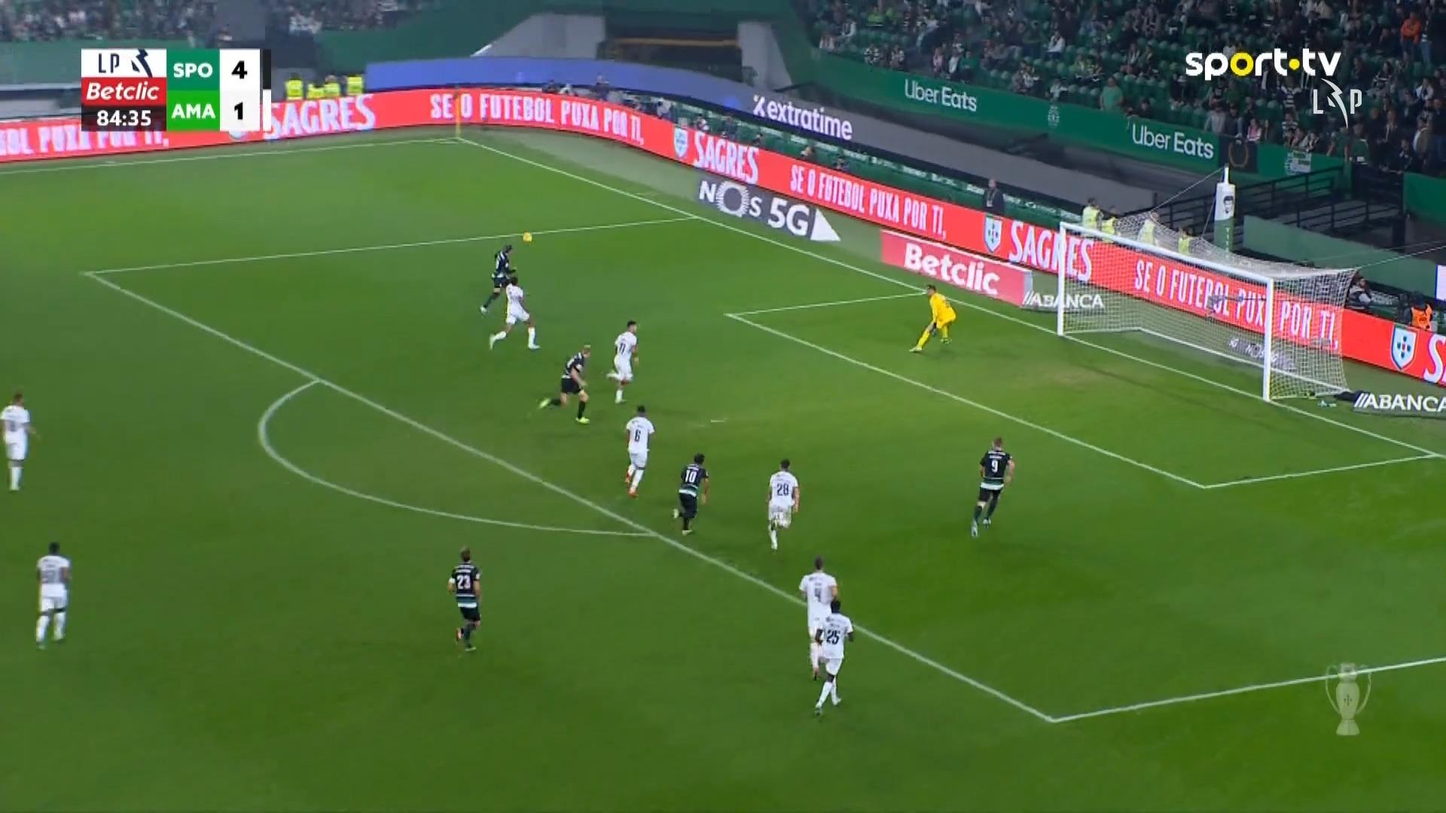ball: (522, 231, 533, 244)
goalkeeper: (909, 282, 956, 353)
player: (798, 555, 839, 680), (811, 597, 854, 716), (969, 435, 1014, 538), (537, 343, 592, 425), (33, 540, 72, 648), (487, 275, 540, 351), (447, 546, 482, 652), (0, 391, 37, 491), (765, 458, 800, 550), (671, 452, 709, 535), (623, 403, 654, 498), (605, 319, 639, 403), (478, 242, 517, 314)
